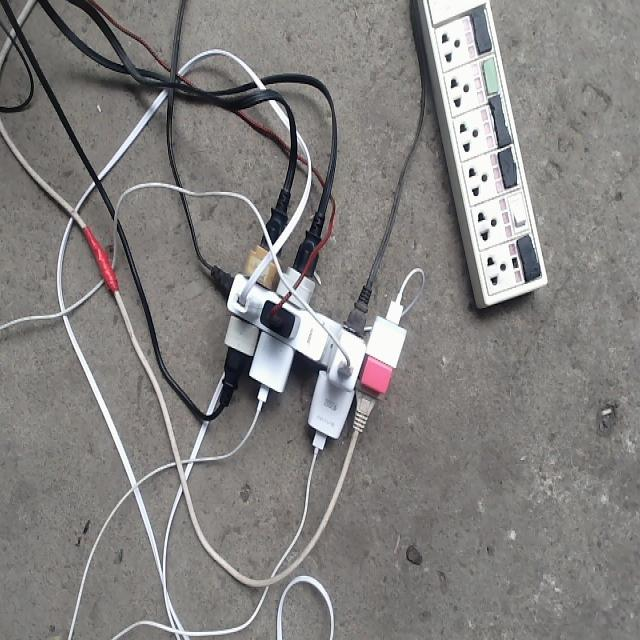-: (215, 184, 407, 459)
